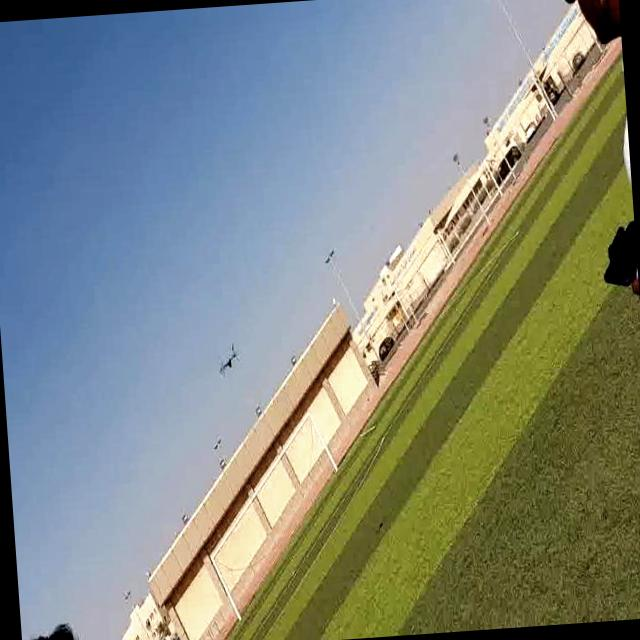drone: (212, 335, 240, 374)
